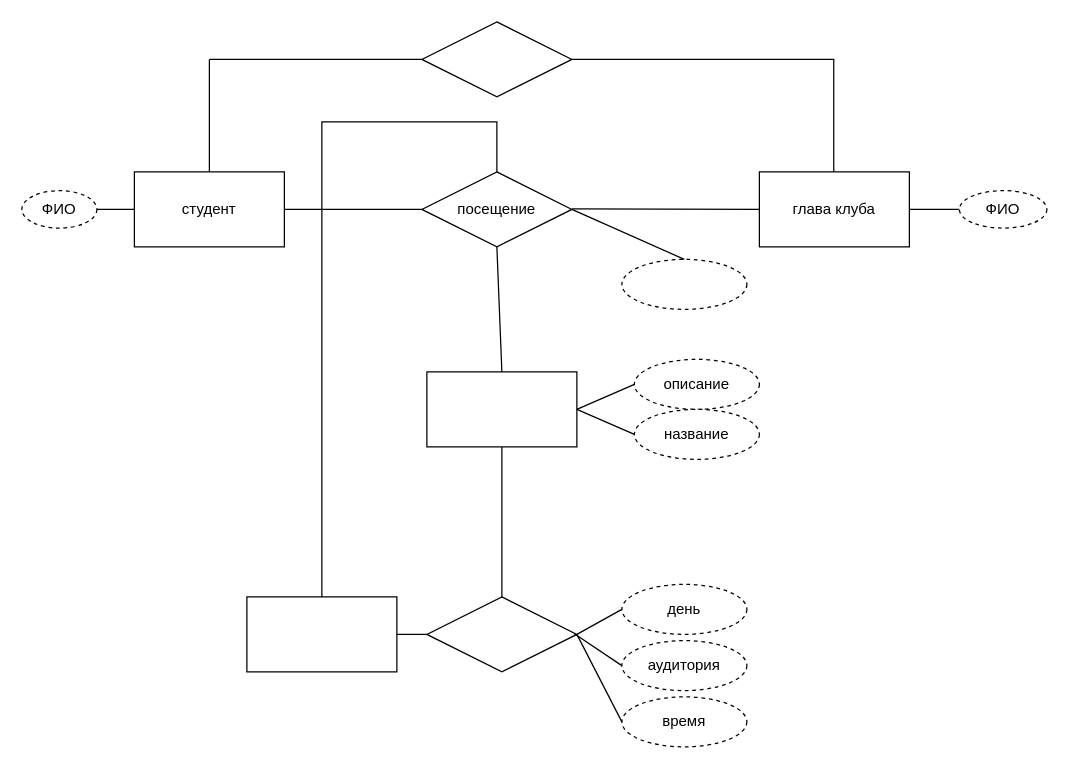
Some shapes in this 1069 by 769 pixel diagram are drawn without their labels. The centre of each missing label's shape, as x and y in pixels:
"Вид занятий" belongs at (321,634).
"выдача задач" belongs at (496,59).
"дата посещения" belongs at (684,283).
"клуб" belongs at (501,409).
"связь" belongs at (501,634).
